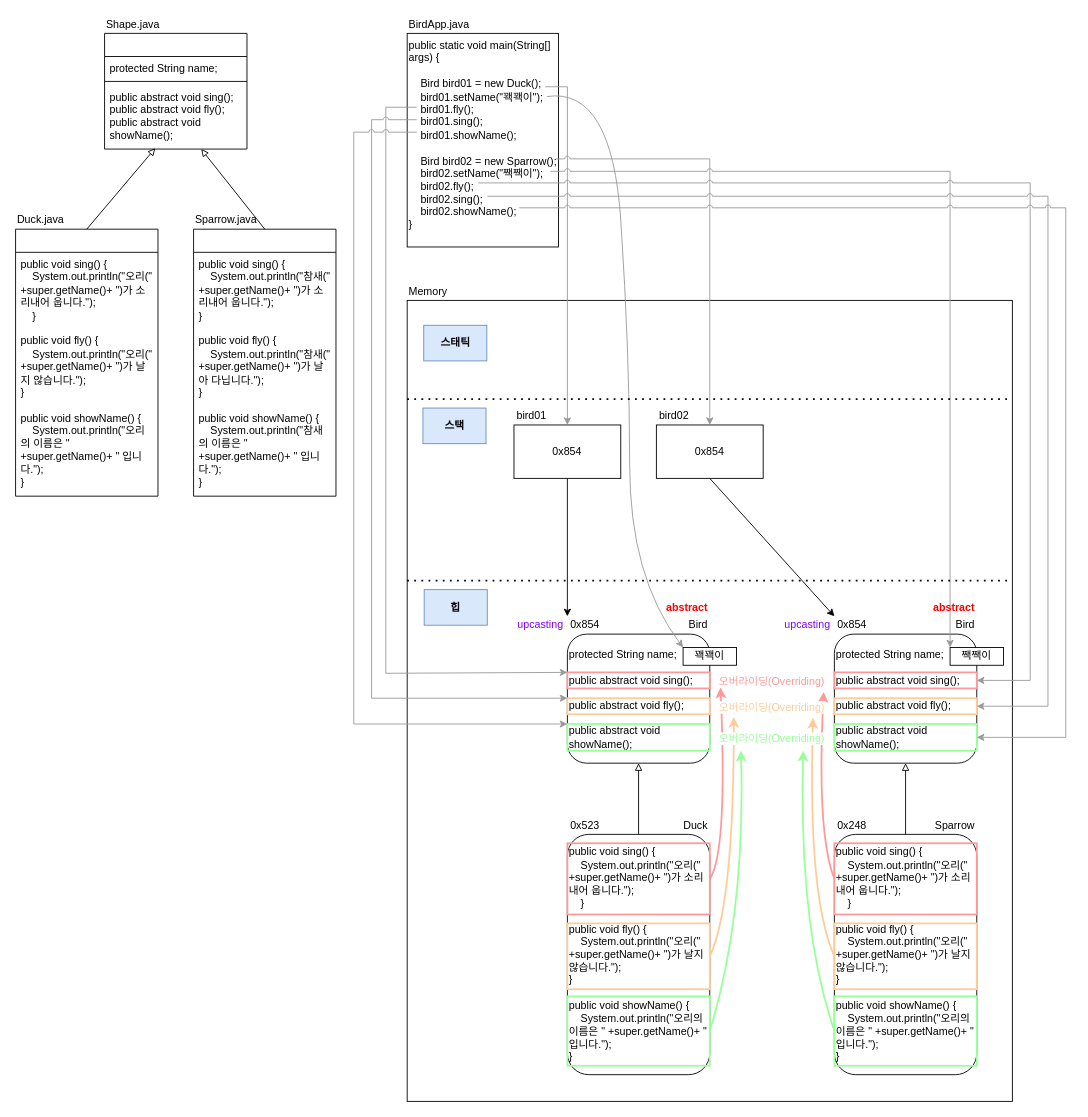
This 1088x1117 diagram has some shape labels left out. Here are the shapes that lost their labels. From the top down, the box of each, then its label:
(104, 32, 247, 149): abstract Class Bird
(15, 228, 158, 496): Duck extends Bird
(193, 228, 336, 496): Sparrow extends Bird
